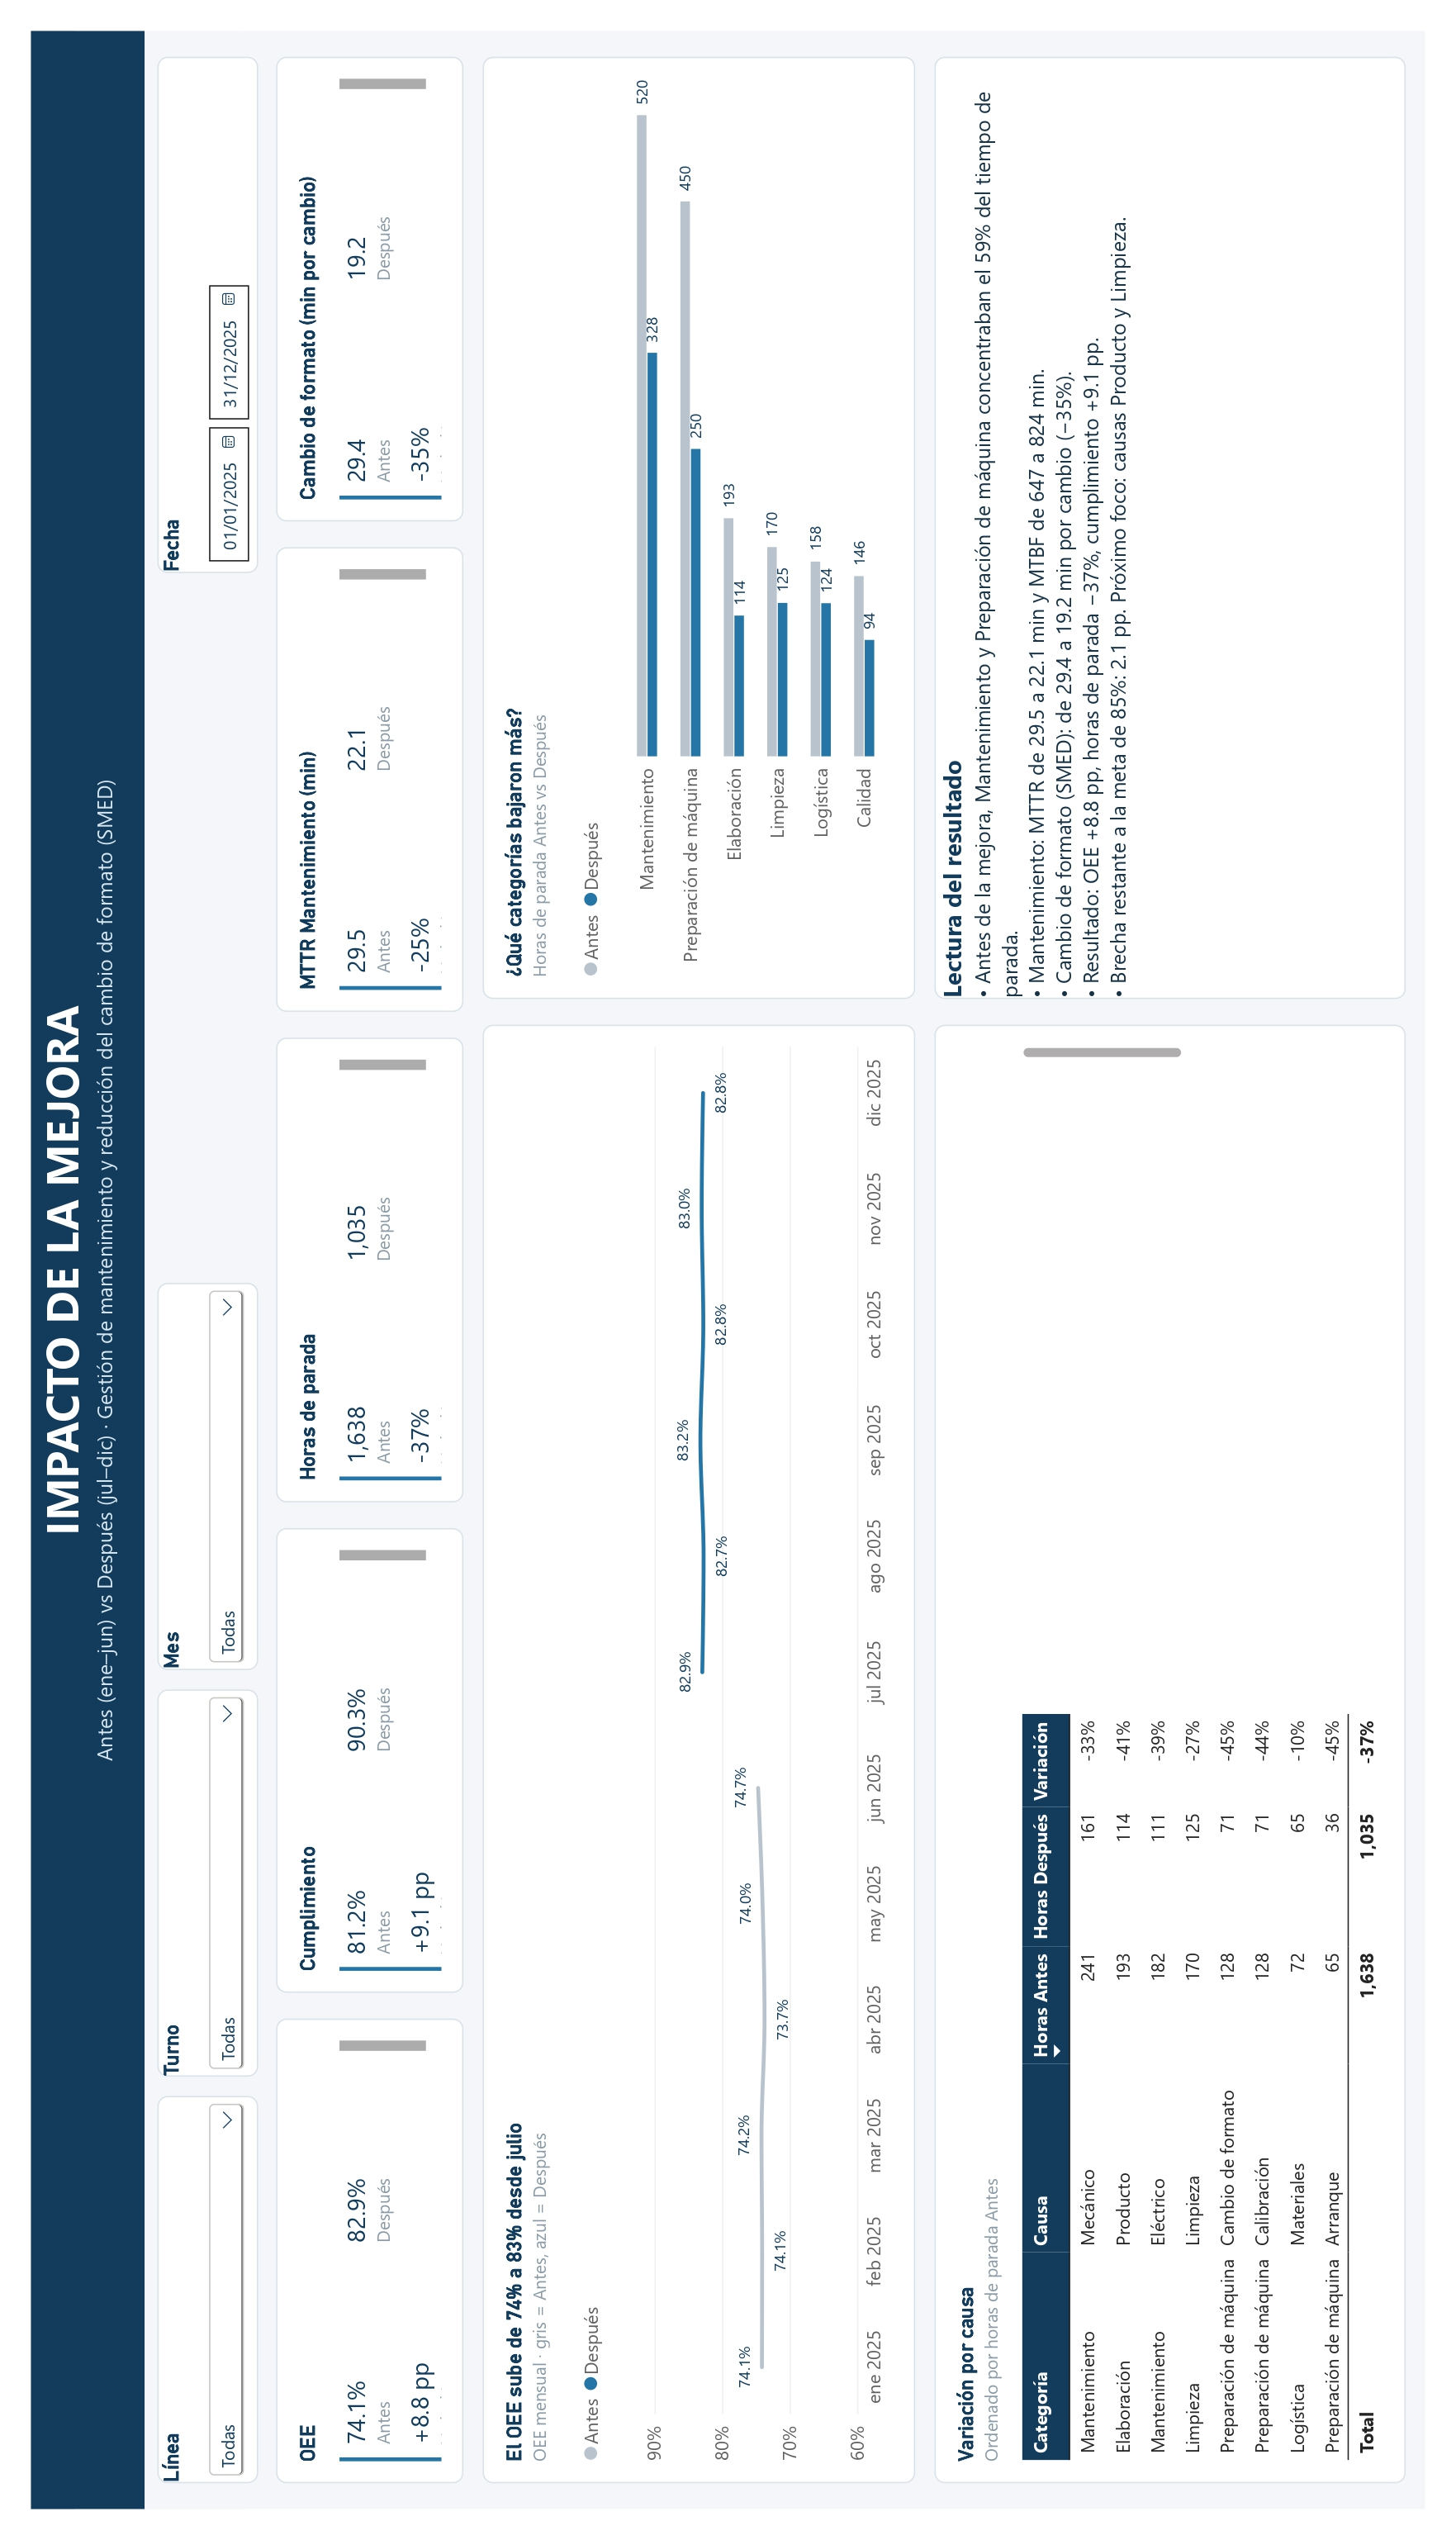

The dashboard page shown, as its layout file describes it:
{"tool":"powerbi","page":{"name":"Impacto de la Mejora","canvas":[1920,1080],"ordinal":2},"visuals":[{"type":"shape","box":[0,0,1920,88],"z":2001},{"type":"textbox","box":[360,0,1200,84],"z":2002},{"type":"slicer","title":"Línea","fields":{"Values":["Dim_Linea.linea"]},"box":[20,98,300,78],"z":2003},{"type":"slicer","title":"Turno","fields":{"Values":["Dim_Turno.Turno"]},"box":[335,98,300,78],"z":2004},{"type":"slicer","title":"Mes","fields":{"Values":["CalendarioDAX.Mes texto"]},"box":[650,98,300,78],"z":2005},{"type":"slicer","title":"Fecha","fields":{"Values":["CalendarioDAX.Date"]},"box":[1500,98,400,78],"z":2006},{"type":"multiRowCard","title":"OEE","fields":{"Values":["Tabla_medida.OEE Antes","Tabla_medida.OEE Después","Tabla_medida.Var OEE (pp)"]},"box":[20,190,360,145],"z":2007},{"type":"multiRowCard","title":"Cumplimiento","fields":{"Values":["Tabla_medida.Cumplimiento Antes","Tabla_medida.Cumplimiento Después","Tabla_medida.Var Cumplimiento (pp)"]},"box":[400,190,360,145],"z":2008},{"type":"multiRowCard","title":"Horas de parada","fields":{"Values":["Tabla_medida.Horas Parada Antes","Tabla_medida.Horas Parada Después","Tabla_medida.Var Horas Parada %"]},"box":[780,190,360,145],"z":2009},{"type":"multiRowCard","title":"MTTR Mantenimiento (min)","fields":{"Values":["Tabla_medida.MTTR Mant Antes","Tabla_medida.MTTR Mant Después","Tabla_medida.Var MTTR Mant %"]},"box":[1160,190,360,145],"z":2010},{"type":"multiRowCard","title":"Cambio de formato (min por cambio)","fields":{"Values":["Tabla_medida.Cambio Formato Antes","Tabla_medida.Cambio Formato Después","Tabla_medida.Var Cambio Formato %"]},"box":[1540,190,360,145],"z":2011},{"type":"lineChart","title":"El OEE sube de 74% a 83% desde julio","fields":{"Category":["CalendarioDAX.Mes Año"],"Series":["CalendarioDAX.Periodo"],"Y":["Tabla_medida.OEE"]},"box":[20,350,1130,335],"z":2012},{"type":"clusteredBarChart","title":"¿Qué categorías bajaron más?","fields":{"Category":["Dim_Parada.Categoria"],"Series":["CalendarioDAX.Periodo"],"Y":["Tabla_medida.Horas de Parada"]},"box":[1170,350,730,335],"z":2013},{"type":"tableEx","title":"Variación por causa","fields":{"Values":["Dim_Parada.Categoria","Dim_Parada.Causa","Tabla_medida.Horas Parada Antes","Tabla_medida.Horas Parada Después","Tabla_medida.Var Horas Parada %"]},"box":[20,700,1130,365],"z":2014},{"type":"textbox","box":[1170,700,730,365],"z":2015}]}

Visuals, with their boxes on the page's 1920x1080 design canvas (x1, y1, x2, y2). These are canvas units, not pixel positions in the 1456x2540 screenshot, which may show the page scaled, cropped or inside an application window:
shape: left=0, top=0, right=1920, bottom=88
textbox: left=360, top=0, right=1560, bottom=84
"Línea" slicer: left=20, top=98, right=320, bottom=176
"Turno" slicer: left=335, top=98, right=635, bottom=176
"Mes" slicer: left=650, top=98, right=950, bottom=176
"Fecha" slicer: left=1500, top=98, right=1900, bottom=176
"OEE" multiRowCard: left=20, top=190, right=380, bottom=335
"Cumplimiento" multiRowCard: left=400, top=190, right=760, bottom=335
"Horas de parada" multiRowCard: left=780, top=190, right=1140, bottom=335
"MTTR Mantenimiento (min)" multiRowCard: left=1160, top=190, right=1520, bottom=335
"Cambio de formato (min por cambio)" multiRowCard: left=1540, top=190, right=1900, bottom=335
"El OEE sube de 74% a 83% desde julio" lineChart: left=20, top=350, right=1150, bottom=685
"¿Qué categorías bajaron más?" clusteredBarChart: left=1170, top=350, right=1900, bottom=685
"Variación por causa" tableEx: left=20, top=700, right=1150, bottom=1065
textbox: left=1170, top=700, right=1900, bottom=1065
